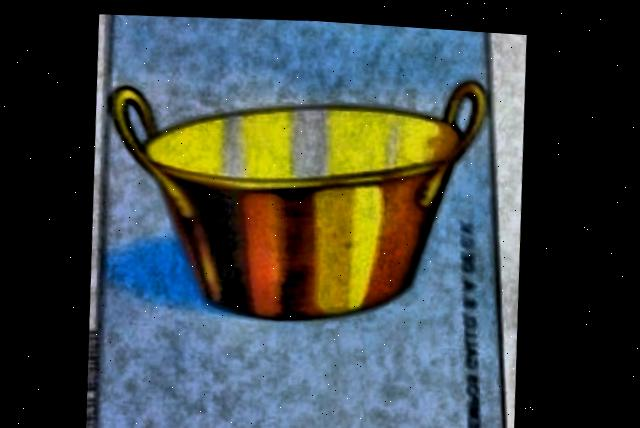El Cazo: (103, 13, 512, 428)
